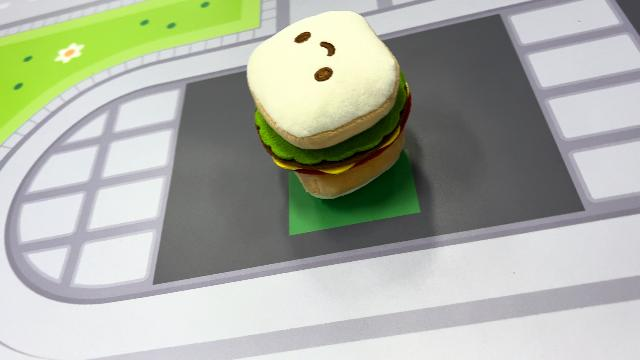sandwich: (243, 9, 414, 201)
